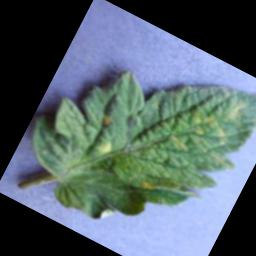Leaf_Mold: (187, 109, 234, 150), (163, 130, 193, 154), (94, 137, 113, 158), (135, 175, 155, 194), (98, 111, 114, 129)
